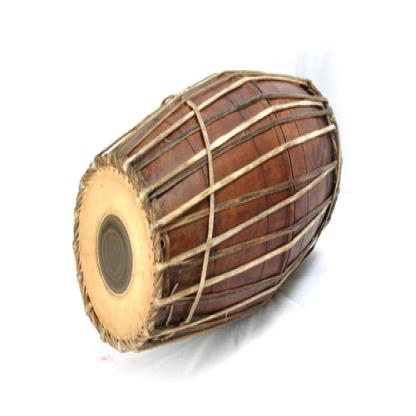Mridangam: (48, 46, 352, 381)
